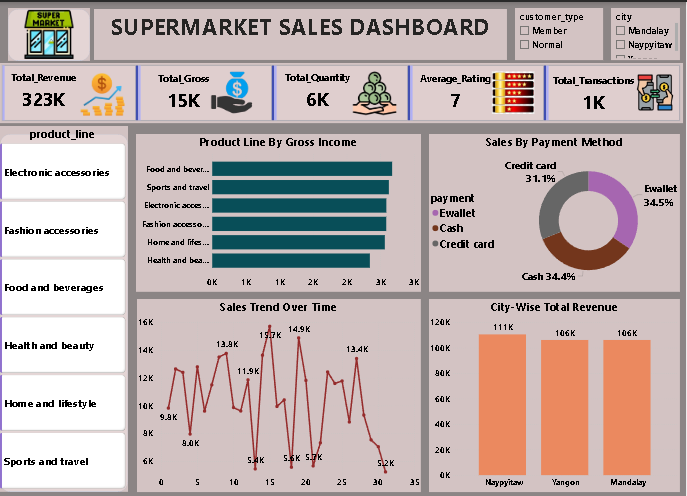

The page's visual inventory and layout, read from the dashboard file:
{"tool":"powerbi","page":{"name":"DASHBOARD","canvas":[1800,1300],"ordinal":0},"visuals":[{"type":"cardVisual","fields":{"Data":["supermarket supermarket_sales.Total_Revenue","supermarket supermarket_sales.Total_Gross","supermarket supermarket_sales.Total_Quantity_Sold","supermarket supermarket_sales.Average_Rating","supermarket supermarket_sales.Total_Transactions"]},"box":[8.5,159.2,1782.9,156.6],"z":0},{"type":"slicer","fields":{"Values":["supermarket supermarket_sales.city"]},"box":[1602.8,15.7,180.1,135.7],"z":1000},{"type":"slicer","fields":{"Values":["supermarket supermarket_sales.customer_type"]},"box":[1352.2,15.7,229.7,135.7],"z":2000},{"type":"clusteredColumnChart","title":"City-Wise Total Revenue","fields":{"Category":["supermarket supermarket_sales.city"],"Y":["Sum(supermarket supermarket_sales.total)"]},"box":[1127.7,775.3,655.2,503.8],"z":3000},{"type":"shape","box":[28.7,18.3,214.1,135.7],"z":3500},{"type":"clusteredBarChart","title":"Product Line By Gross Income","fields":{"Category":["supermarket supermarket_sales.product_line"],"Y":["Sum(supermarket supermarket_sales.gross_income)"]},"box":[362.9,344.6,744,412.4],"z":4000},{"type":"donutChart","title":"Sales By Payment Method","fields":{"Category":["supermarket supermarket_sales.payment"],"Y":["CountNonNull(supermarket supermarket_sales.payment)"]},"box":[1127.7,344.6,655.2,412.4],"z":6000},{"type":"shape","box":[7.8,344.6,334.1,934.5],"z":7000},{"type":"lineChart","title":"Sales Trend Over Time","fields":{"Category":["supermarket supermarket_sales.date.Variation.Date Hierarchy.Day"],"Y":["Sum(supermarket supermarket_sales.total)"]},"box":[365.5,775.3,741.4,503.8],"z":8000},{"type":"advancedSlicerVisual","fields":{"Values":["supermarket supermarket_sales.product_line"]},"box":[0,323.7,342,955.4],"z":10000},{"type":"textbox","box":[253.2,18.3,1078.1,133.1],"z":11000},{"type":"image","box":[28.7,15.7,214.1,138.4],"z":12000}]}

Visuals, with their boxes in screenshot pixels (x1, y1, x2, y2), scaled from the page's 1800x1300 canvas onto the 687x496 screenshot:
cardVisual - supermarket supermarket_sales.Total_Revenue x supermarket supermarket_sales.Total_Gross: bbox=[3, 61, 684, 120]
slicer - supermarket supermarket_sales.city: bbox=[612, 6, 680, 58]
slicer - supermarket supermarket_sales.customer_type: bbox=[516, 6, 604, 58]
"City-Wise Total Revenue" clusteredColumnChart: bbox=[430, 296, 680, 488]
shape: bbox=[11, 7, 93, 59]
"Product Line By Gross Income" clusteredBarChart: bbox=[139, 131, 422, 289]
"Sales By Payment Method" donutChart: bbox=[430, 131, 680, 289]
shape: bbox=[3, 131, 130, 488]
"Sales Trend Over Time" lineChart: bbox=[139, 296, 422, 488]
advancedSlicerVisual - supermarket supermarket_sales.product_line: bbox=[0, 124, 131, 488]
textbox: bbox=[97, 7, 508, 58]
image: bbox=[11, 6, 93, 59]
